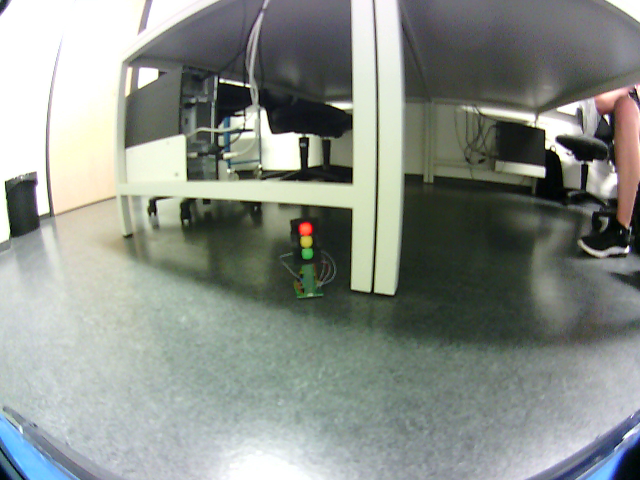red trafficlight: (296, 222, 317, 264)
